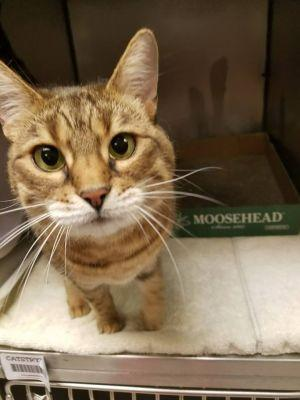bengal: (1, 18, 182, 250)
